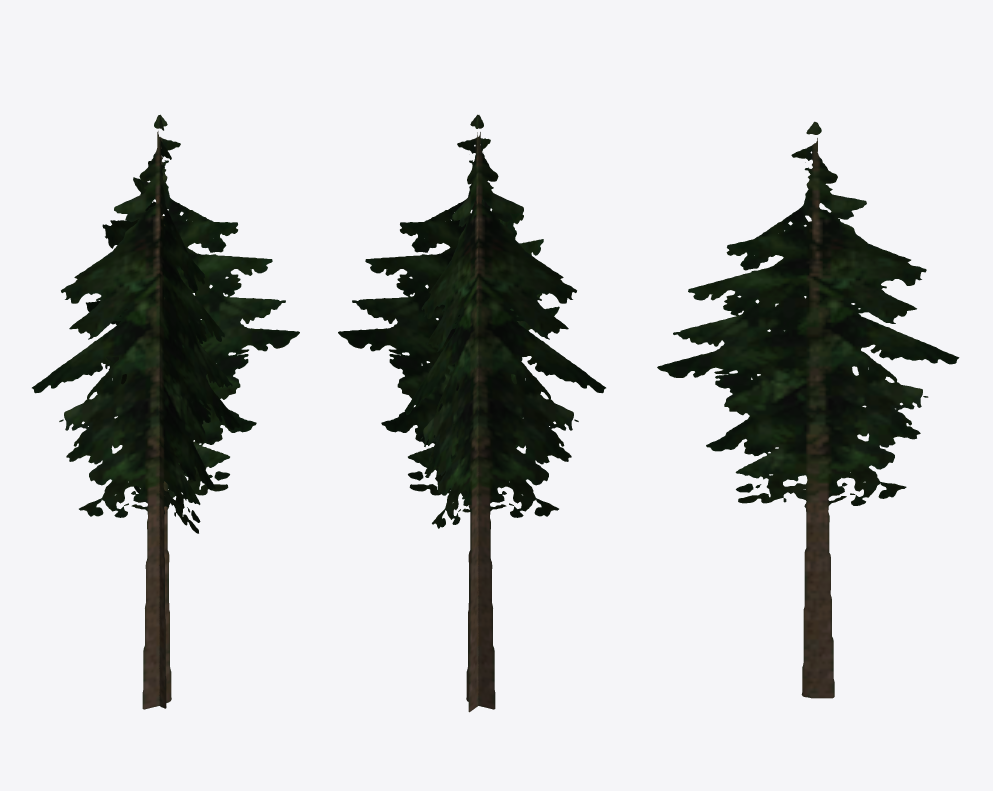
Rendered from ever_pinetree_large_l2.fbx.
3 views of the same model, side by side, from view 1: azimuth 30°, elevation 25°; view 2: azimuth 150°, elevation 25°; view 3: azimuth 270°, elevation 25° (orthographic). The views are drawn at different scales.
Parts seen in each view (by area): view 1: mesh_node; view 2: mesh_node; view 3: mesh_node.
Part boxes in pixels (x1=…): mesh_node: x1=32, y1=114, x2=299, y2=709; mesh_node: x1=338, y1=114, x2=605, y2=712; mesh_node: x1=657, y1=121, x2=959, y2=698.
Bounding box in the file's own units: 9.37 × 19.76 × 9.37.
